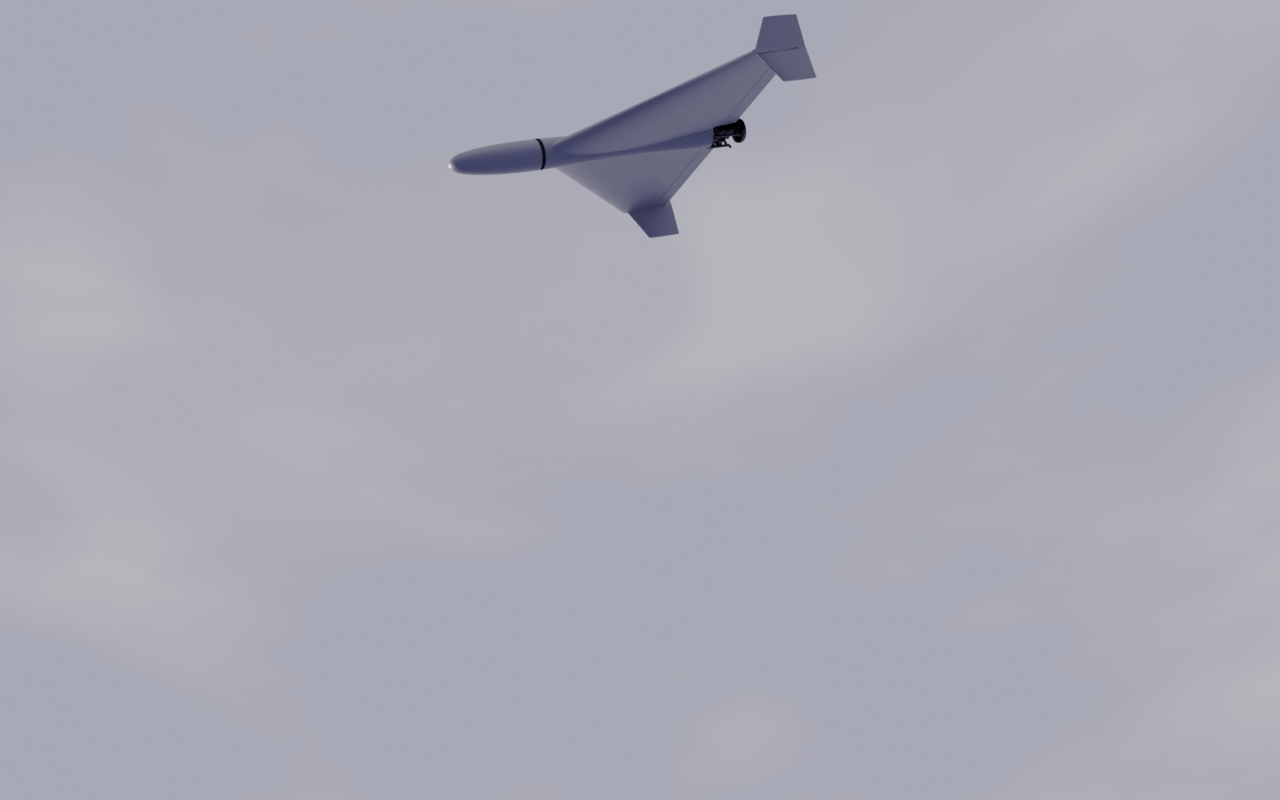shahed: (448, 14, 819, 240)
